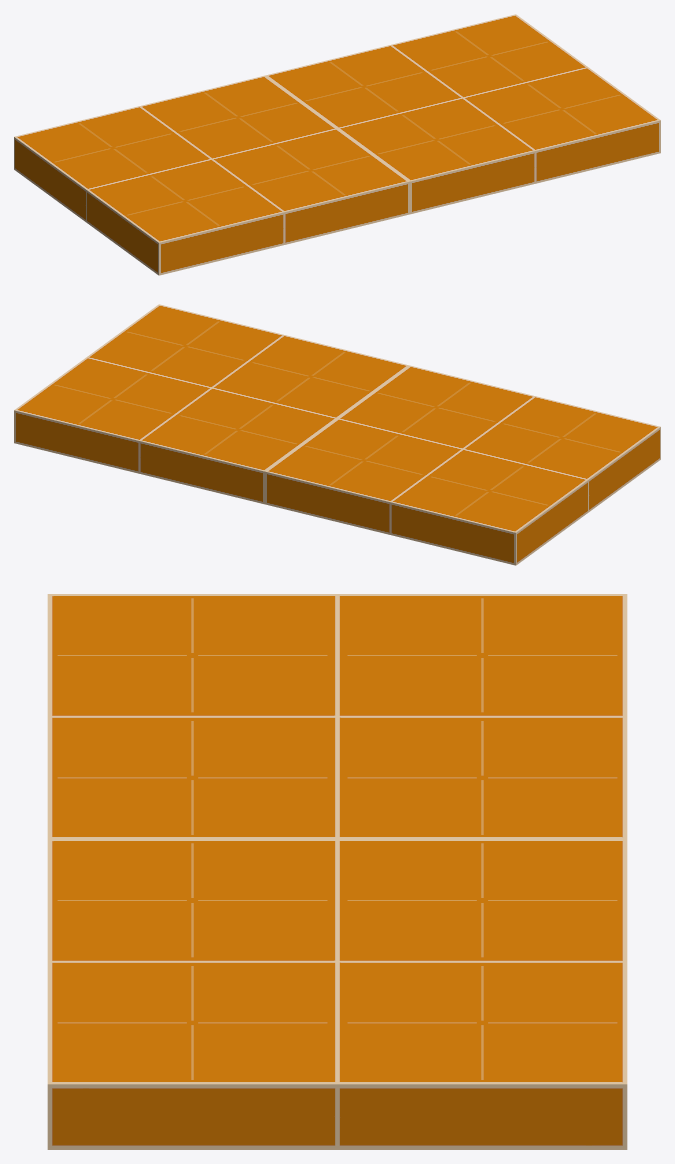
Rendered from Plate8_2x1.obj.
3 renders of one model, top to bottom at view 1: azimuth 30°, elevation 25°; view 2: azimuth 150°, elevation 25°; view 3: azimuth 270°, elevation 25°, orthographic. The views are drawn at different scales.
Visible parts, largest first — view 1: Plate8_2x1_Cube.374; view 2: Plate8_2x1_Cube.374; view 3: Plate8_2x1_Cube.374.
Part boxes in pixels (x1,y1,x2,y2): Plate8_2x1_Cube.374: (14, 14, 660, 275); Plate8_2x1_Cube.374: (14, 304, 660, 565); Plate8_2x1_Cube.374: (47, 594, 627, 1149).
Size of the model in its own units: 2 by 0.125 by 1.
1 material, 1 textured.
